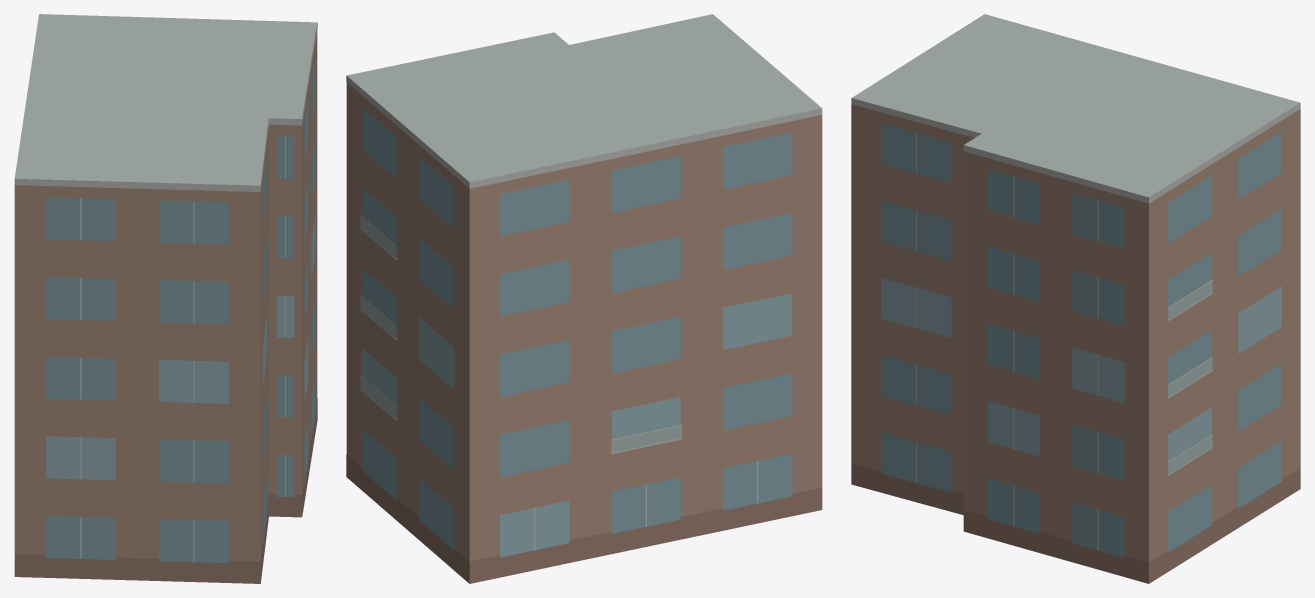
Rendered from survey-upis-32937536.glb.
3 views of the same model, side by side, from view 1: azimuth 30°, elevation 25°; view 2: azimuth 150°, elevation 25°; view 3: azimuth 270°, elevation 25° (orthographic). The views are drawn at different scales.
Parts seen in each view (by area): view 1: survey-upis-32937536.tmp; view 2: survey-upis-32937536.tmp; view 3: survey-upis-32937536.tmp.
Part boxes in pixels (x1,y1,x2,y2): survey-upis-32937536.tmp: [14, 14, 317, 583]; survey-upis-32937536.tmp: [346, 14, 822, 583]; survey-upis-32937536.tmp: [851, 14, 1300, 583].
Bounding box in the file's own units: 15.48 × 15.2 × 16.02.
